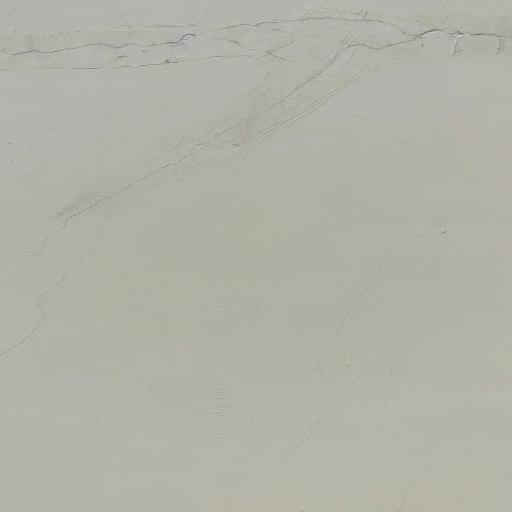employee-detectio-system: (57, 74, 450, 443)
